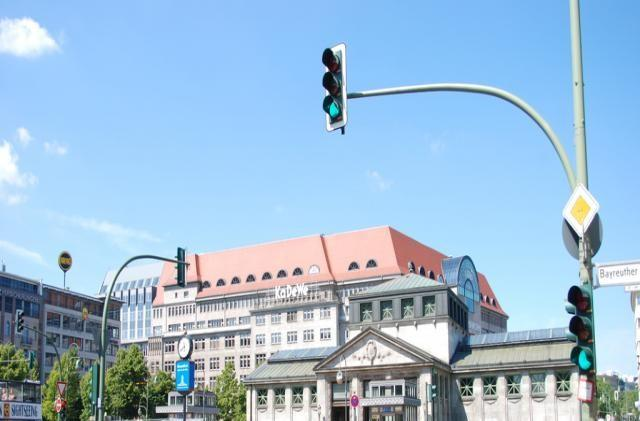green_light: (568, 286, 595, 373), (322, 44, 346, 132)
